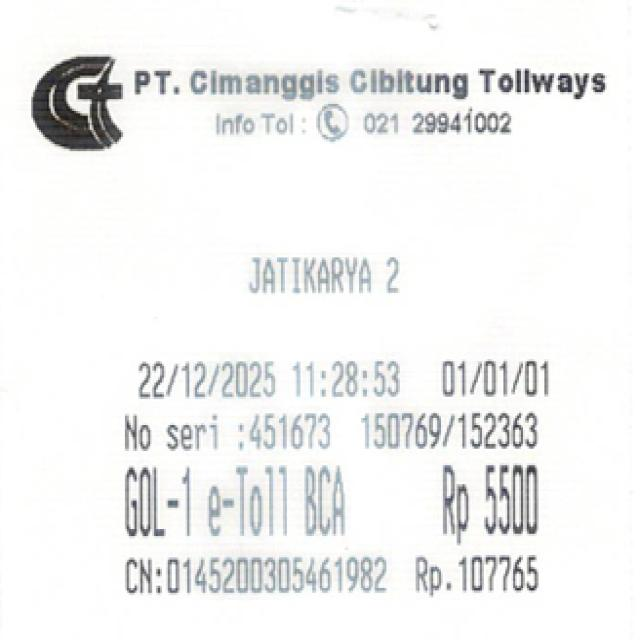date: (132, 353, 422, 408)
store: (127, 59, 623, 104)
total: (422, 462, 546, 544)
